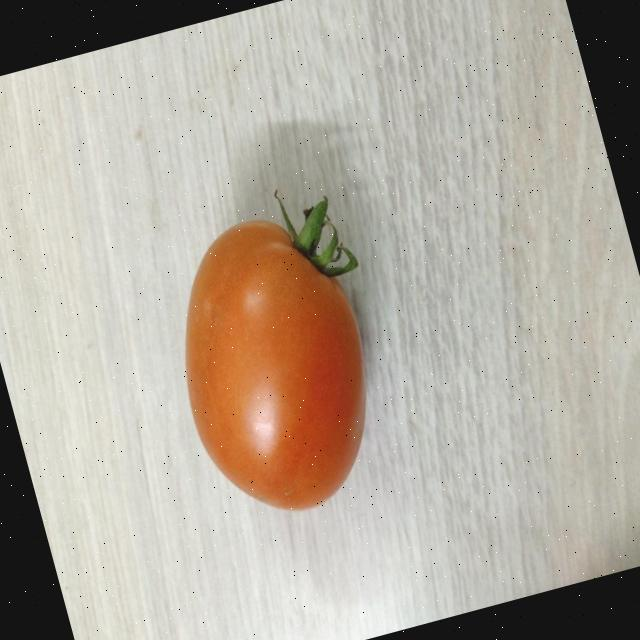Tomato: (140, 190, 406, 537)
